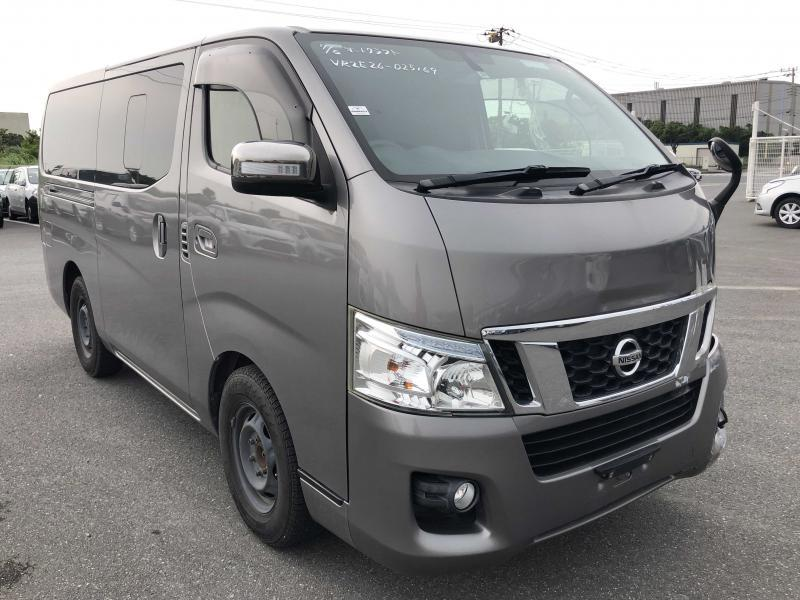Van: (27, 25, 744, 555)
